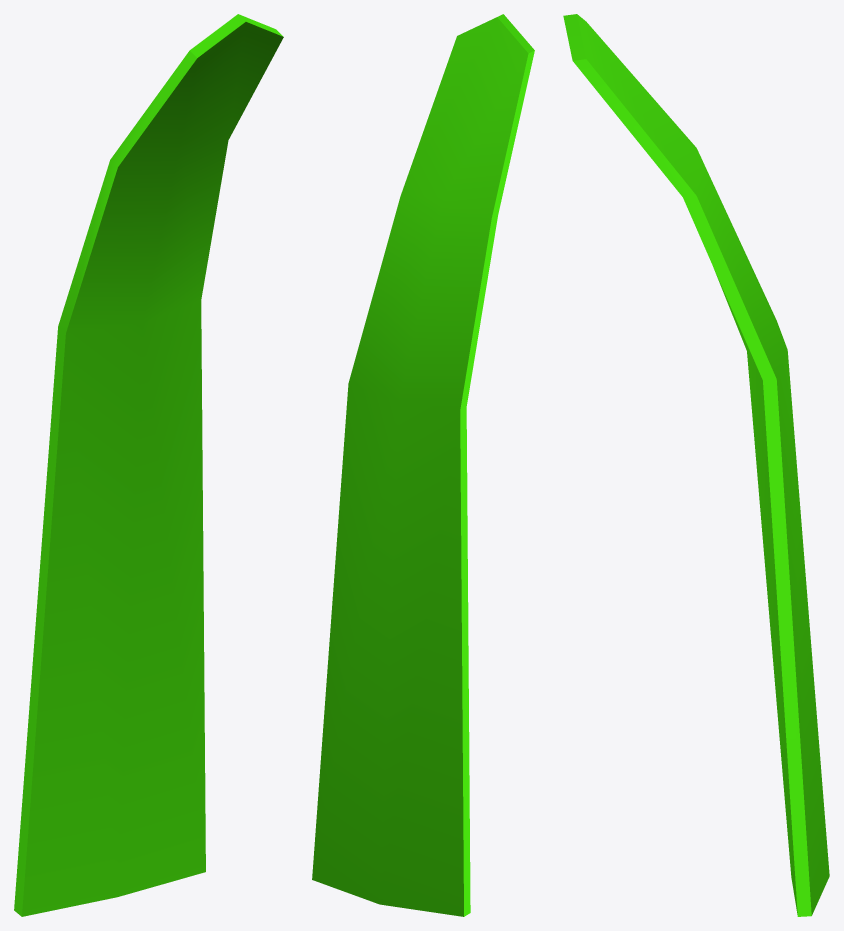
The model's file is Hierba_05.fbx.
The picture shows the model from 3 angles, left to right: view 1: azimuth 30°, elevation 25°; view 2: azimuth 150°, elevation 25°; view 3: azimuth 270°, elevation 25°; orthographic projection. The views are drawn at different scales.
Parts seen in each view (by area): view 1: SM_Hierba_05; view 2: SM_Hierba_05; view 3: SM_Hierba_05.
Boxes of the visible parts, x1=… form: SM_Hierba_05: x1=14, y1=14, x2=283, y2=916; SM_Hierba_05: x1=312, y1=14, x2=534, y2=916; SM_Hierba_05: x1=563, y1=14, x2=829, y2=916.
Size of the model in its own units: 4.94 by 24.89 by 6.96.
